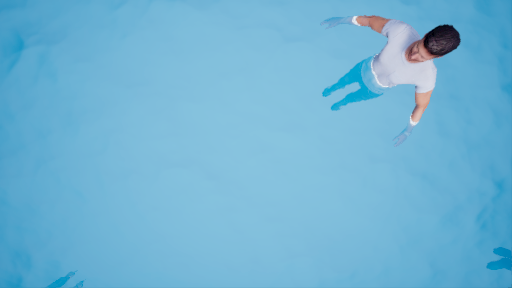person: (319, 5, 468, 148)
